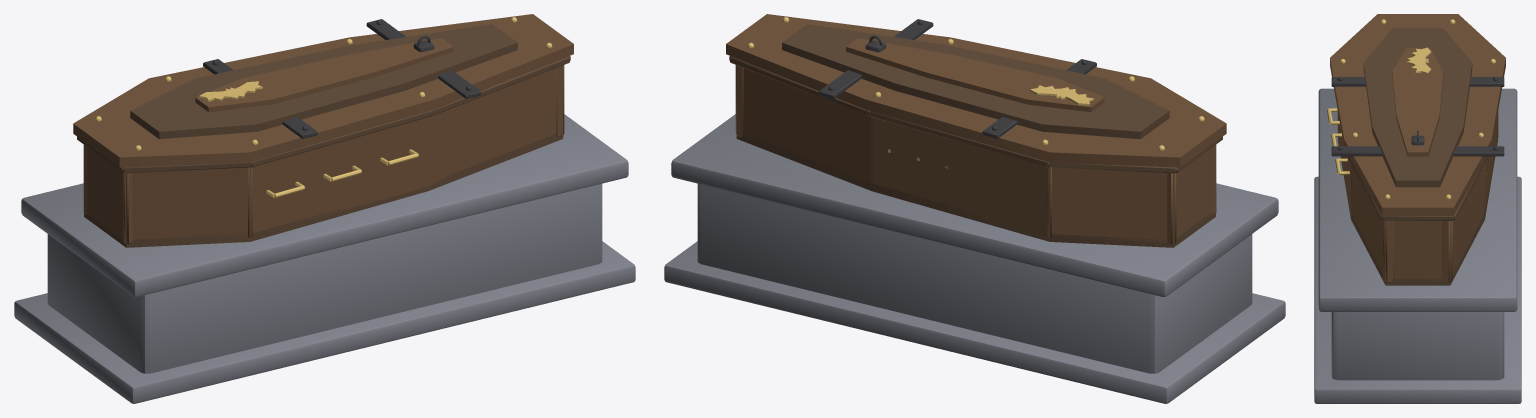
File: gu_bara_chiusa.fbx
3 renders of one model, left to right at view 1: azimuth 30°, elevation 25°; view 2: azimuth 150°, elevation 25°; view 3: azimuth 270°, elevation 25°, orthographic. The views are drawn at different scales.
Parts seen in each view (by area): view 1: gu_bara_chiusa_basalto, gu_bara_chiusa_coperchio, gu_bara_chiusa_noce, gu_bara_chiusa_legno, gu_bara_chiusa_ferro, gu_bara_chiusa_ottone; view 2: gu_bara_chiusa_basalto, gu_bara_chiusa_coperchio, gu_bara_chiusa_noce, gu_bara_chiusa_legno, gu_bara_chiusa_ferro; view 3: gu_bara_chiusa_basalto, gu_bara_chiusa_coperchio, gu_bara_chiusa_noce, gu_bara_chiusa_ferro, gu_bara_chiusa_legno, gu_bara_chiusa_ottone.
Boxes of the visible parts, bbox=[...] form: gu_bara_chiusa_basalto: bbox=[14, 114, 635, 403]; gu_bara_chiusa_coperchio: bbox=[73, 14, 573, 167]; gu_bara_chiusa_noce: bbox=[83, 65, 564, 244]; gu_bara_chiusa_legno: bbox=[77, 56, 570, 247]; gu_bara_chiusa_ferro: bbox=[203, 19, 481, 138]; gu_bara_chiusa_ottone: bbox=[266, 149, 418, 197]; gu_bara_chiusa_basalto: bbox=[664, 114, 1285, 403]; gu_bara_chiusa_coperchio: bbox=[726, 14, 1226, 167]; gu_bara_chiusa_noce: bbox=[735, 65, 1216, 244]; gu_bara_chiusa_legno: bbox=[729, 56, 1222, 247]; gu_bara_chiusa_ferro: bbox=[818, 19, 1096, 138]; gu_bara_chiusa_basalto: bbox=[1314, 88, 1521, 403]; gu_bara_chiusa_coperchio: bbox=[1330, 14, 1505, 216]; gu_bara_chiusa_noce: bbox=[1337, 111, 1498, 282]; gu_bara_chiusa_ferro: bbox=[1331, 76, 1504, 156]; gu_bara_chiusa_legno: bbox=[1338, 137, 1497, 285]; gu_bara_chiusa_ottone: bbox=[1327, 108, 1486, 174].
Size of the model in its own units: 2.34 by 1.07 by 0.96.
